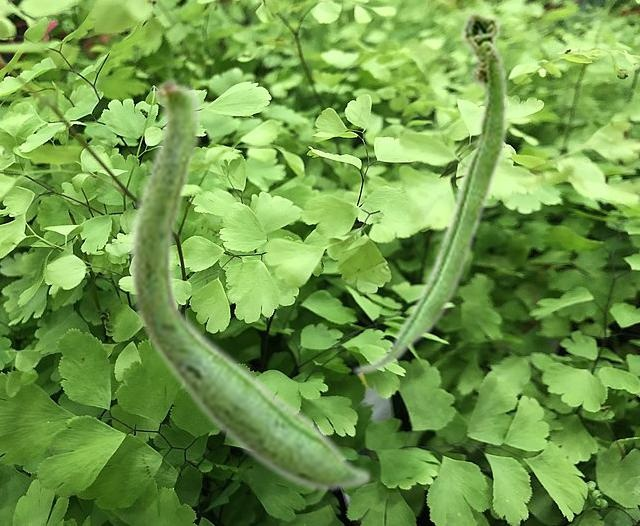french_bean: (128, 74, 372, 492), (351, 9, 507, 375)
